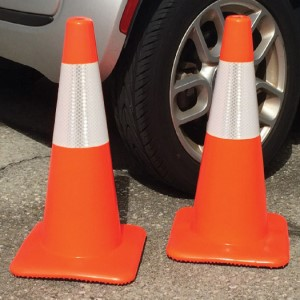traffic cone: (10, 16, 147, 286), (166, 13, 291, 270)
